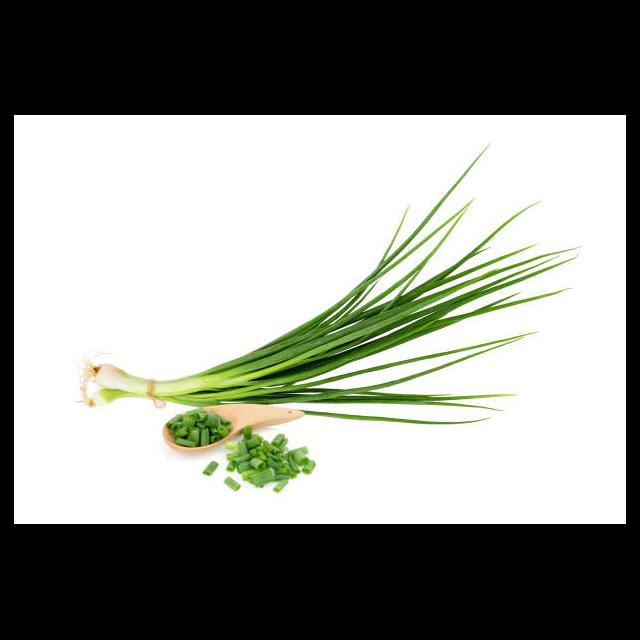green_onion: (80, 209, 556, 423), (206, 426, 317, 493), (161, 410, 232, 446)
